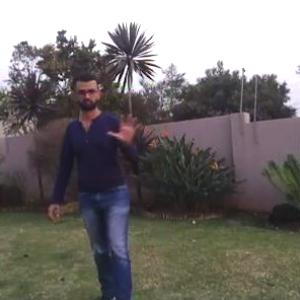follow_hand: (103, 109, 143, 146)
